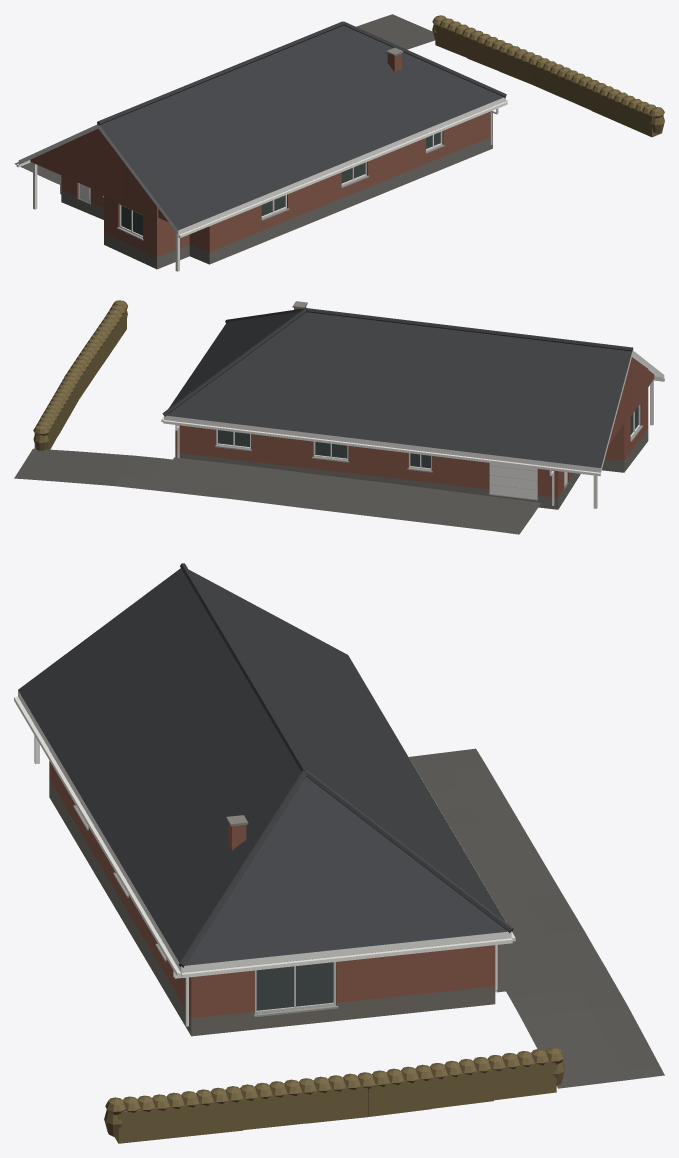
Rendered from vh_hedge_bungalow.glb.
The picture shows the model from 3 angles, top to bottom: view 1: azimuth 30°, elevation 25°; view 2: azimuth 150°, elevation 25°; view 3: azimuth 270°, elevation 25°; orthographic projection. The views are drawn at different scales.
Visible parts, largest first — view 1: vh_roof, vh_brick, vh_trim, vh_hedge, vh_frames_small, vh_gravel, vh_glass, vh_stone; view 2: vh_roof, vh_gravel, vh_brick, vh_trim, vh_hedge, vh_frames_small, vh_glass, vh_stone; view 3: vh_roof, vh_gravel, vh_hedge, vh_brick, vh_trim, vh_frames_small, vh_glass.
Part boxes in pixels (left/top/right/bottom): vh_roof: left=97, top=21, right=506, bottom=230; vh_brick: left=30, top=53, right=492, bottom=257; vh_trim: left=18, top=97, right=505, bottom=271; vh_hedge: left=432, top=15, right=664, bottom=137; vh_frames_small: left=16, top=100, right=507, bottom=238; vh_gravel: left=14, top=14, right=434, bottom=184; vh_glass: left=121, top=132, right=440, bottom=235; vh_stone: left=102, top=47, right=444, bottom=240; vh_roof: left=162, top=308, right=633, bottom=467; vh_gravel: left=14, top=448, right=540, bottom=534; vh_brick: left=175, top=306, right=654, bottom=497; vh_trim: left=164, top=350, right=664, bottom=509; vh_hedge: left=33, top=300, right=127, bottom=450; vh_frames_small: left=161, top=378, right=664, bottom=505; vh_glass: left=218, top=406, right=638, bottom=468; vh_stone: left=214, top=301, right=643, bottom=472; vh_roof: left=18, top=563, right=513, bottom=967; vh_gravel: left=409, top=748, right=664, bottom=1088; vh_hedge: left=104, top=1047, right=565, bottom=1143; vh_brick: left=49, top=750, right=495, bottom=1018; vh_trim: left=18, top=690, right=511, bottom=1036; vh_frames_small: left=14, top=662, right=515, bottom=1026; vh_glass: left=81, top=804, right=333, bottom=1010.
Bounding box in the file's own units: 32.43 × 6.98 × 21.76.
